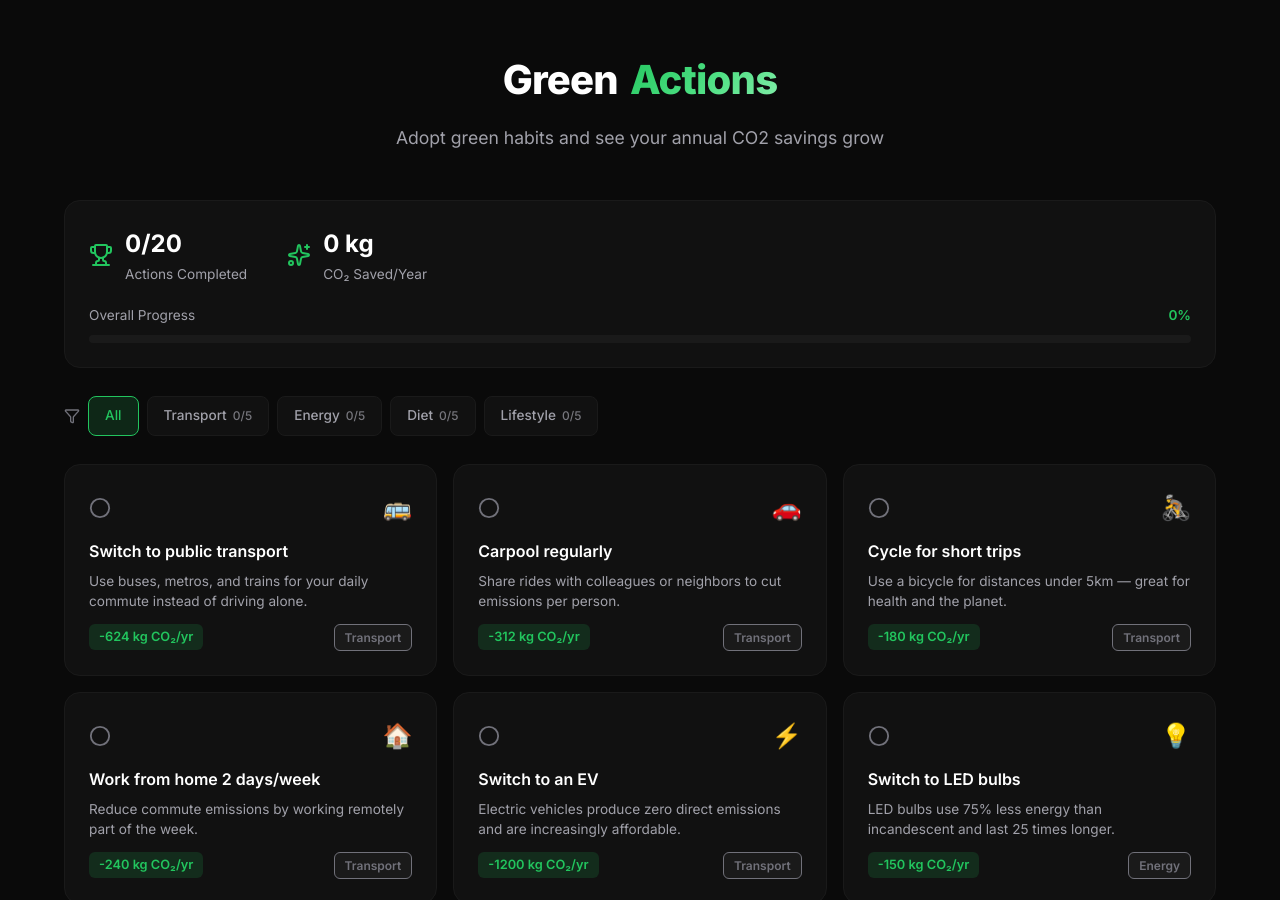
Test: Actions Component › filters actions by category tab
Expected: the heading "Switch to public transport" is shown, left=89, top=541, right=288, bottom=561
Expected: the heading "Switch to LED bulbs" is shown, left=868, top=769, right=1021, bottom=789
Click the button "Energy 0/5". click: {"x": 330, "y": 416}
box: left=277, top=396, right=382, bottom=436
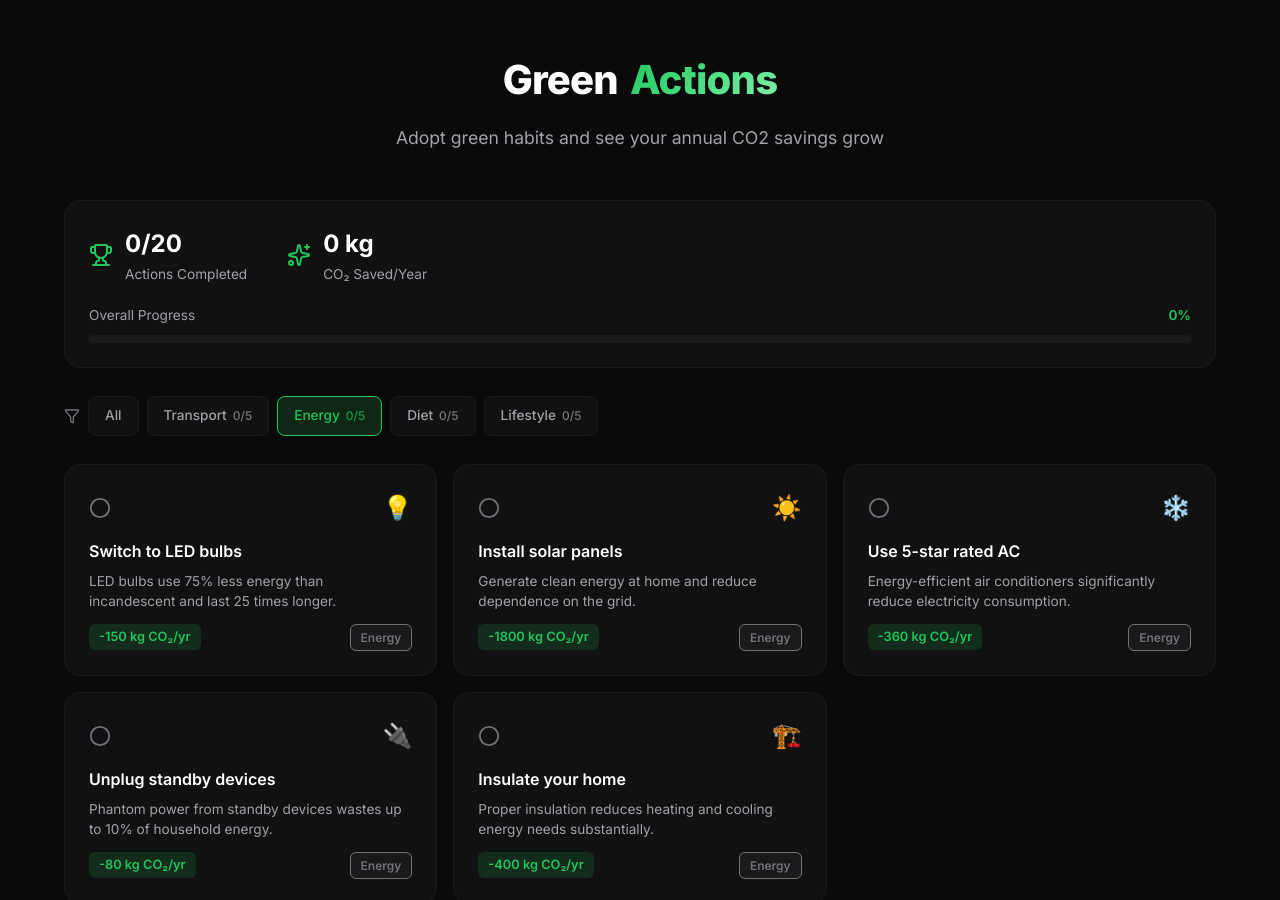
Expected: the heading "Switch to LED bulbs" is shown, left=89, top=541, right=242, bottom=561
Expected: the button "Switch to public transport" is gone
